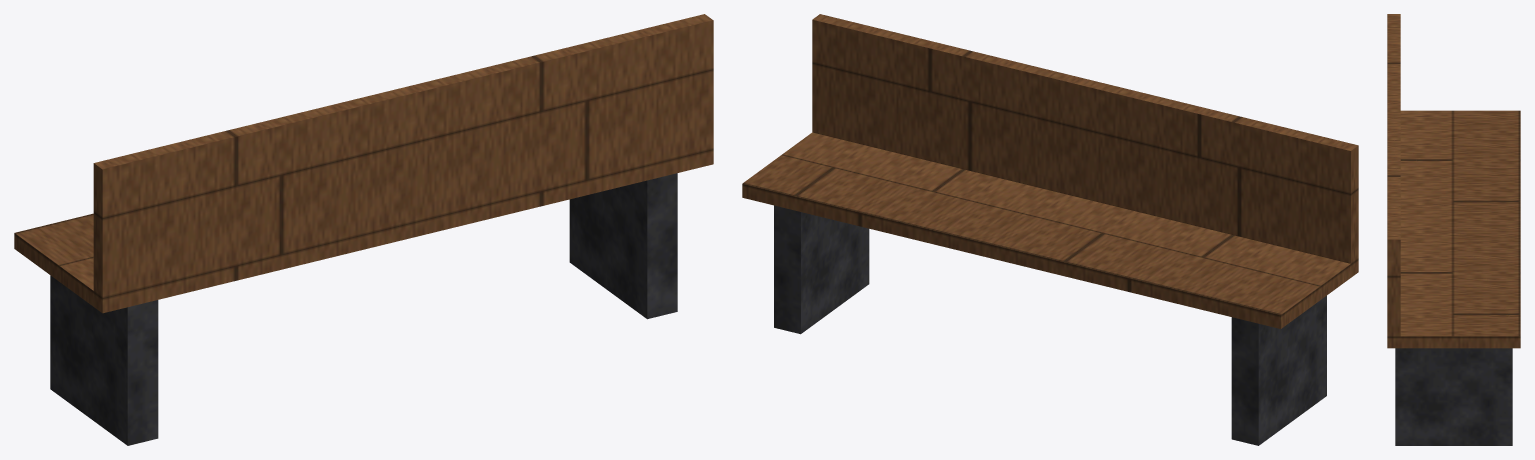
Rendered from bench.obj.
3 views of the same model, side by side, from view 1: azimuth 30°, elevation 25°; view 2: azimuth 150°, elevation 25°; view 3: azimuth 270°, elevation 25° (orthographic). The views are drawn at different scales.
Parts seen in each view (by area): view 1: wood, iron; view 2: wood, iron; view 3: wood, iron.
Boxes of the visible parts, x1=… form: wood: x1=14, y1=14, x2=713, y2=313; iron: x1=50, y1=173, x2=677, y2=445; wood: x1=742, y1=14, x2=1358, y2=328; iron: x1=774, y1=205, x2=1326, y2=445; wood: x1=1387, y1=14, x2=1520, y2=348; iron: x1=1395, y1=348, x2=1512, y2=445.
Size of the model in its own units: 2 by 0.9 by 0.5.
2 materials, 2 textured.
